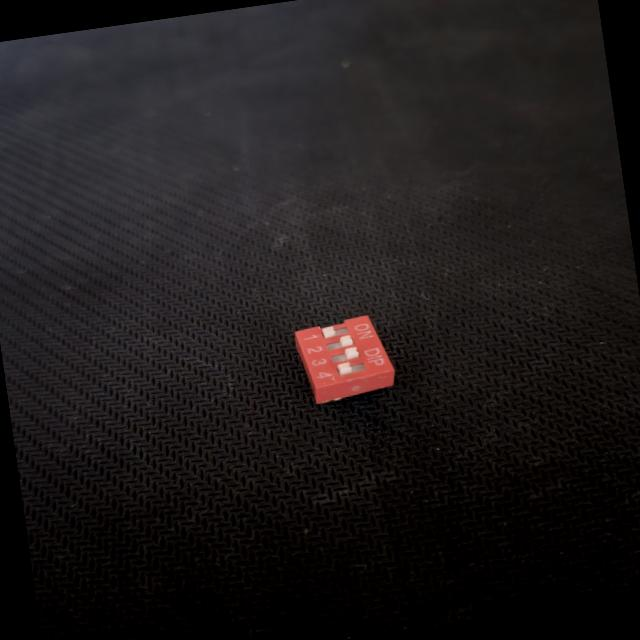switch: (279, 301, 418, 418)
